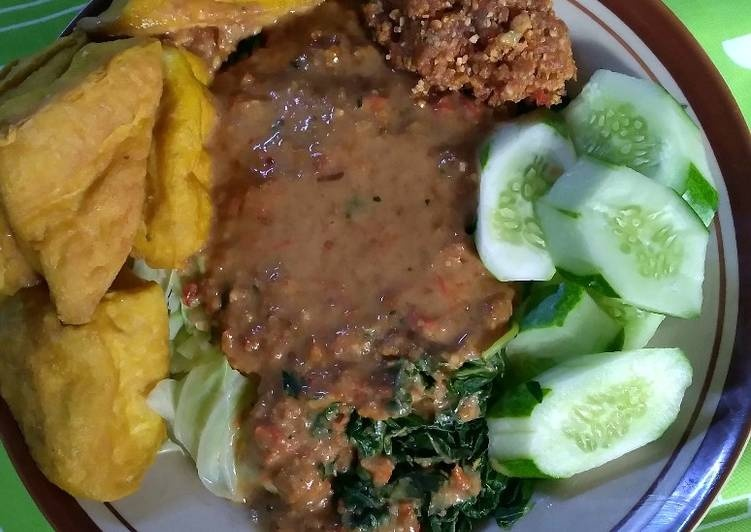pecel: (37, 4, 700, 475)
